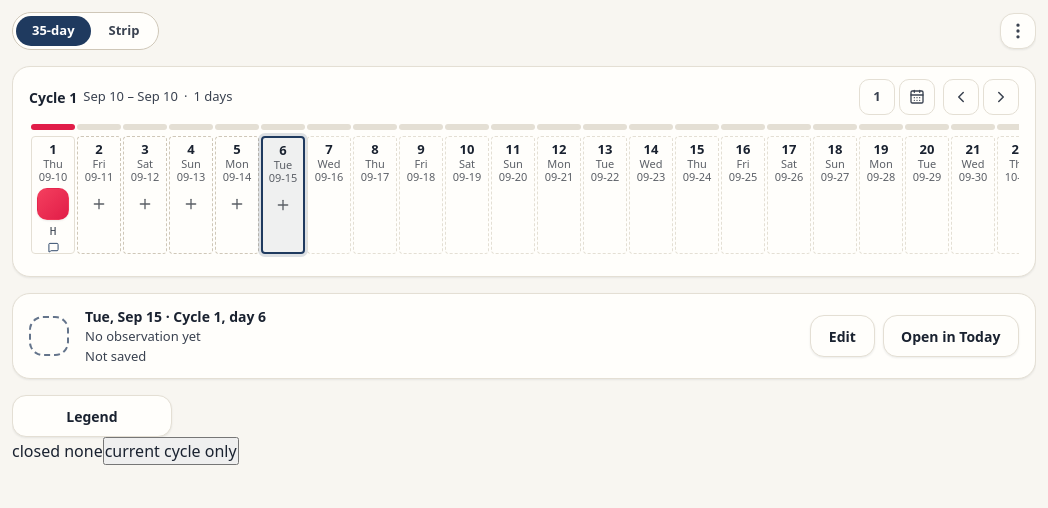
Scenario: ChartRow on a desktop › opens the selected day in the sheet with Edit, and in Today with Open in Today
Click the button with aria-label "Cycle Day 1, Date 2026-09-10" at point(53, 195), box [31, 136, 75, 254]
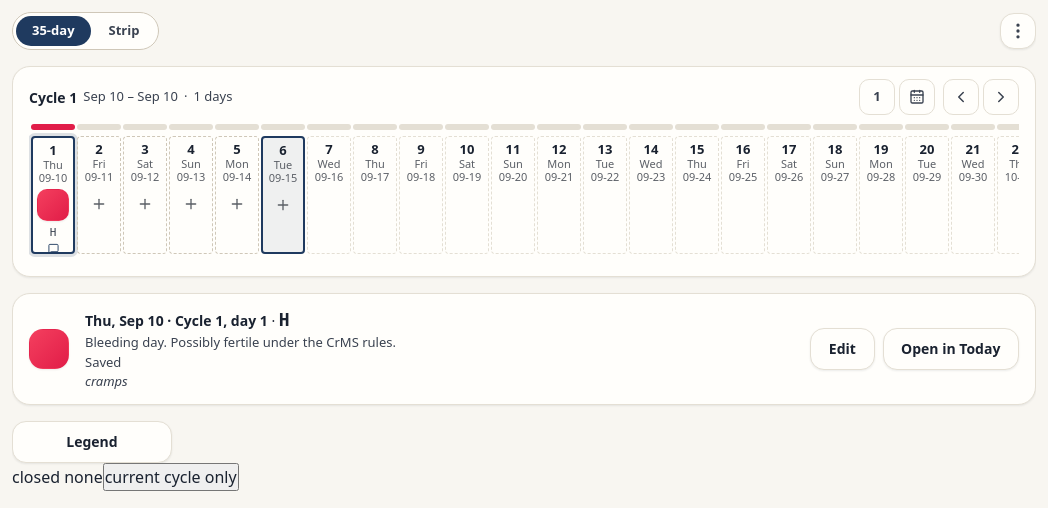
Result: the text "H" next to "Thu, Sep 10 · Cycle 1, day 1" is shown at [279, 309, 290, 330]
Result: the text "cramps" is shown at [85, 372, 128, 390]
Click the button "Open in Today" at point(951, 349), box [882, 328, 1019, 370]
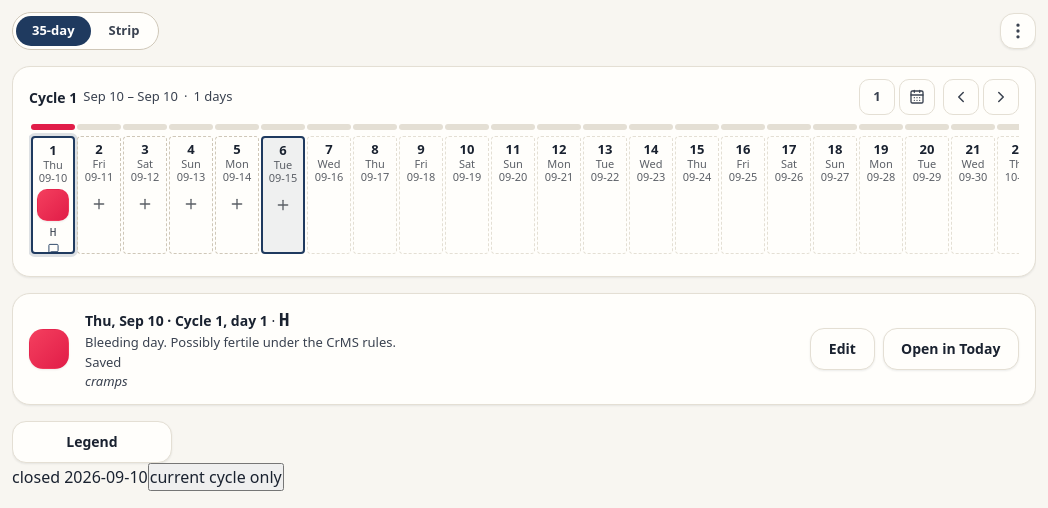
Result: the text with test id "drawer" reads "closed 2026-09-10" at [12, 466, 148, 488]
Click the button "Edit" at point(842, 349), box [810, 328, 875, 370]
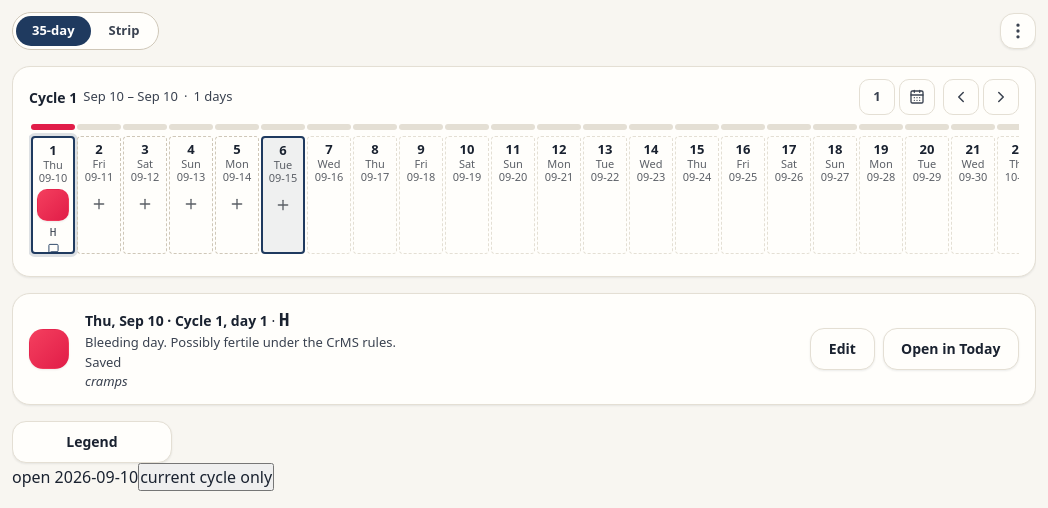
Result: the text with test id "drawer" reads "open 2026-09-10" at [12, 466, 138, 488]
